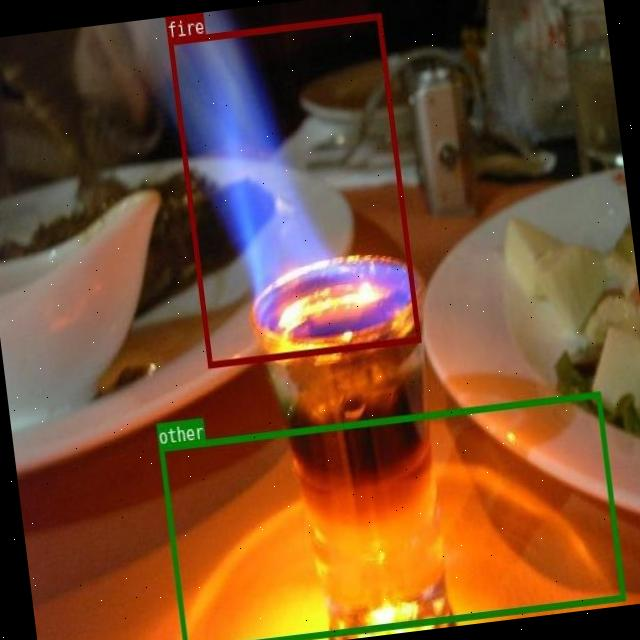fire: (167, 11, 420, 366)
